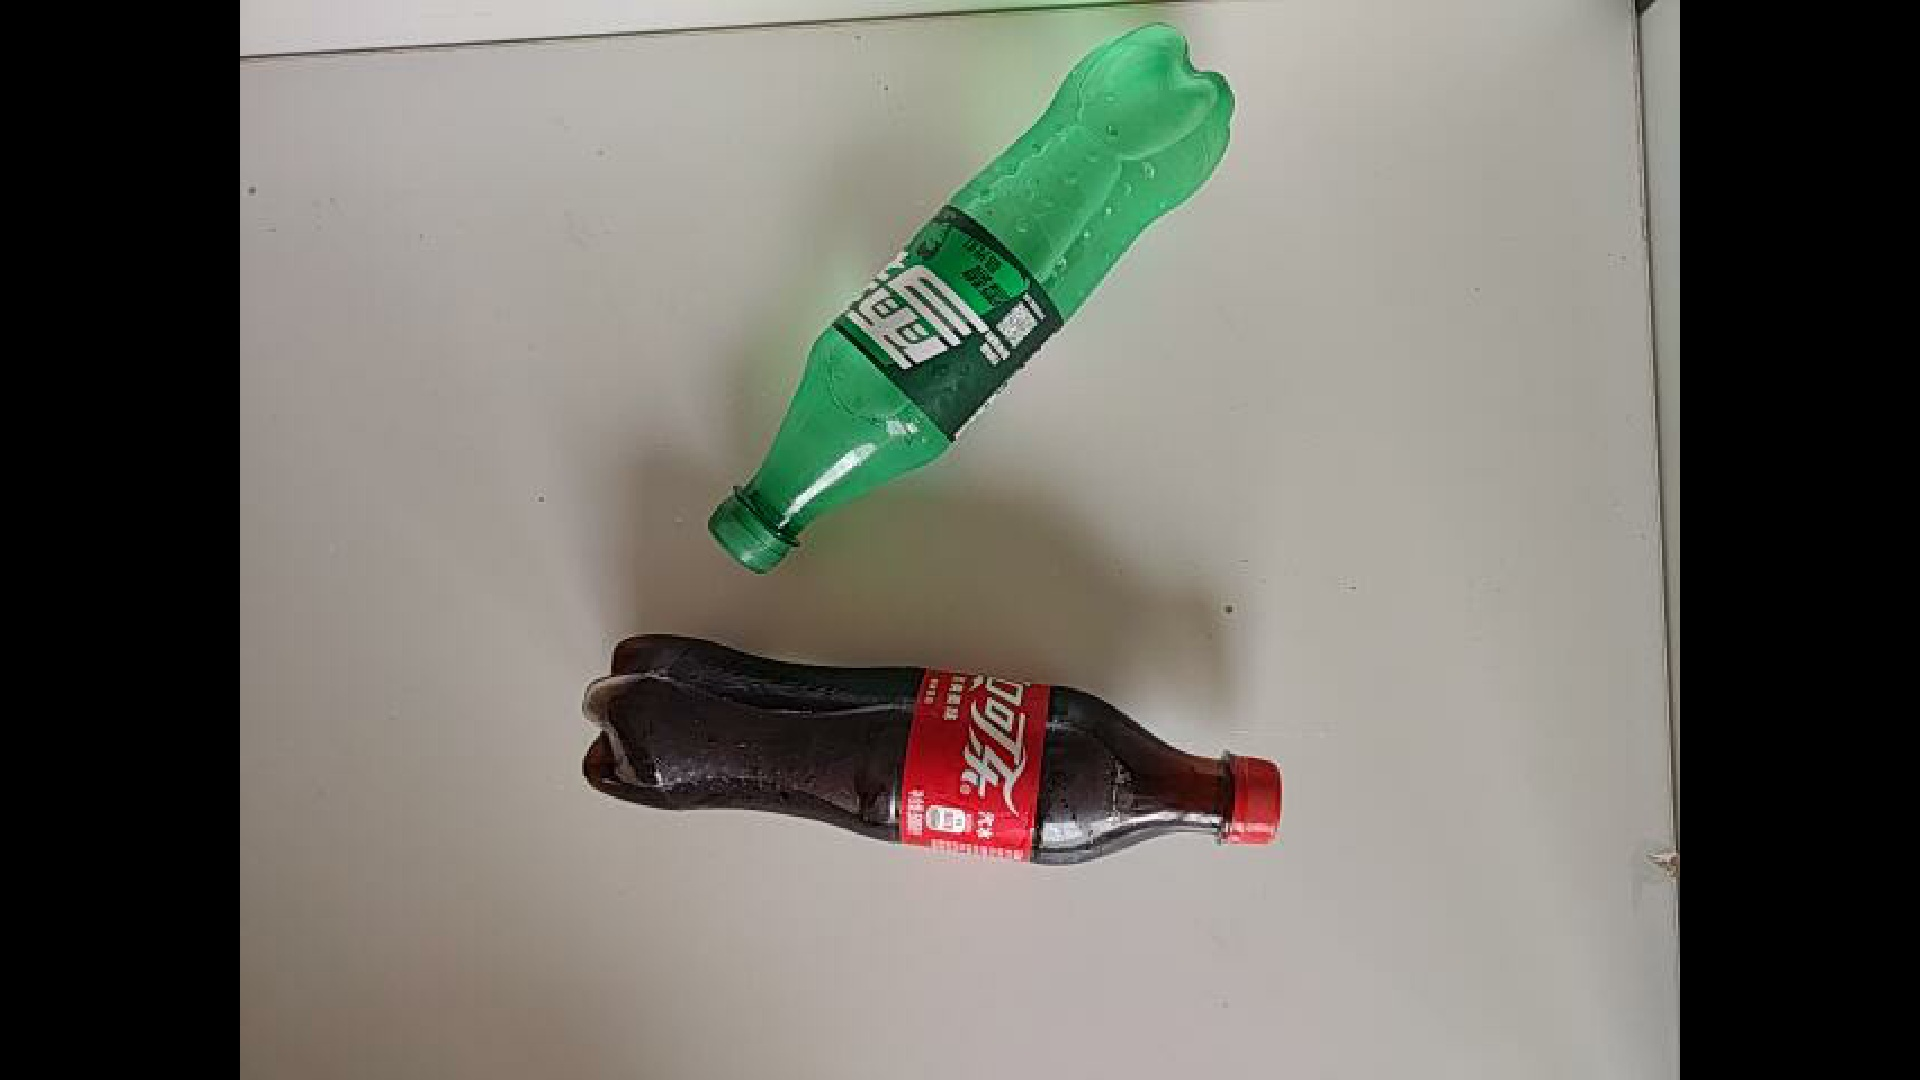cola: (549, 621, 1296, 858)
sprite: (705, 20, 1238, 578)
